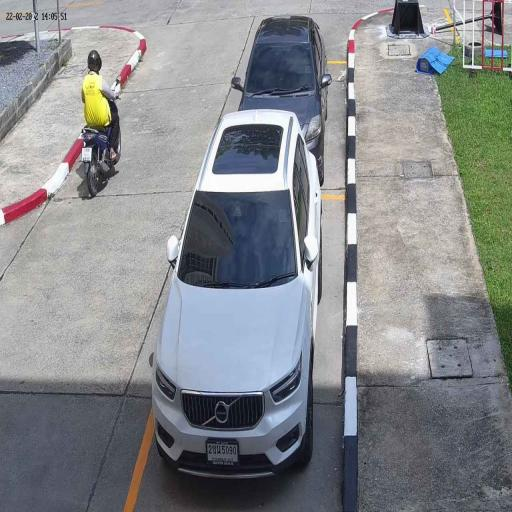car: (152, 109, 322, 483), (238, 15, 328, 184)
motorcycle: (80, 116, 122, 196)
